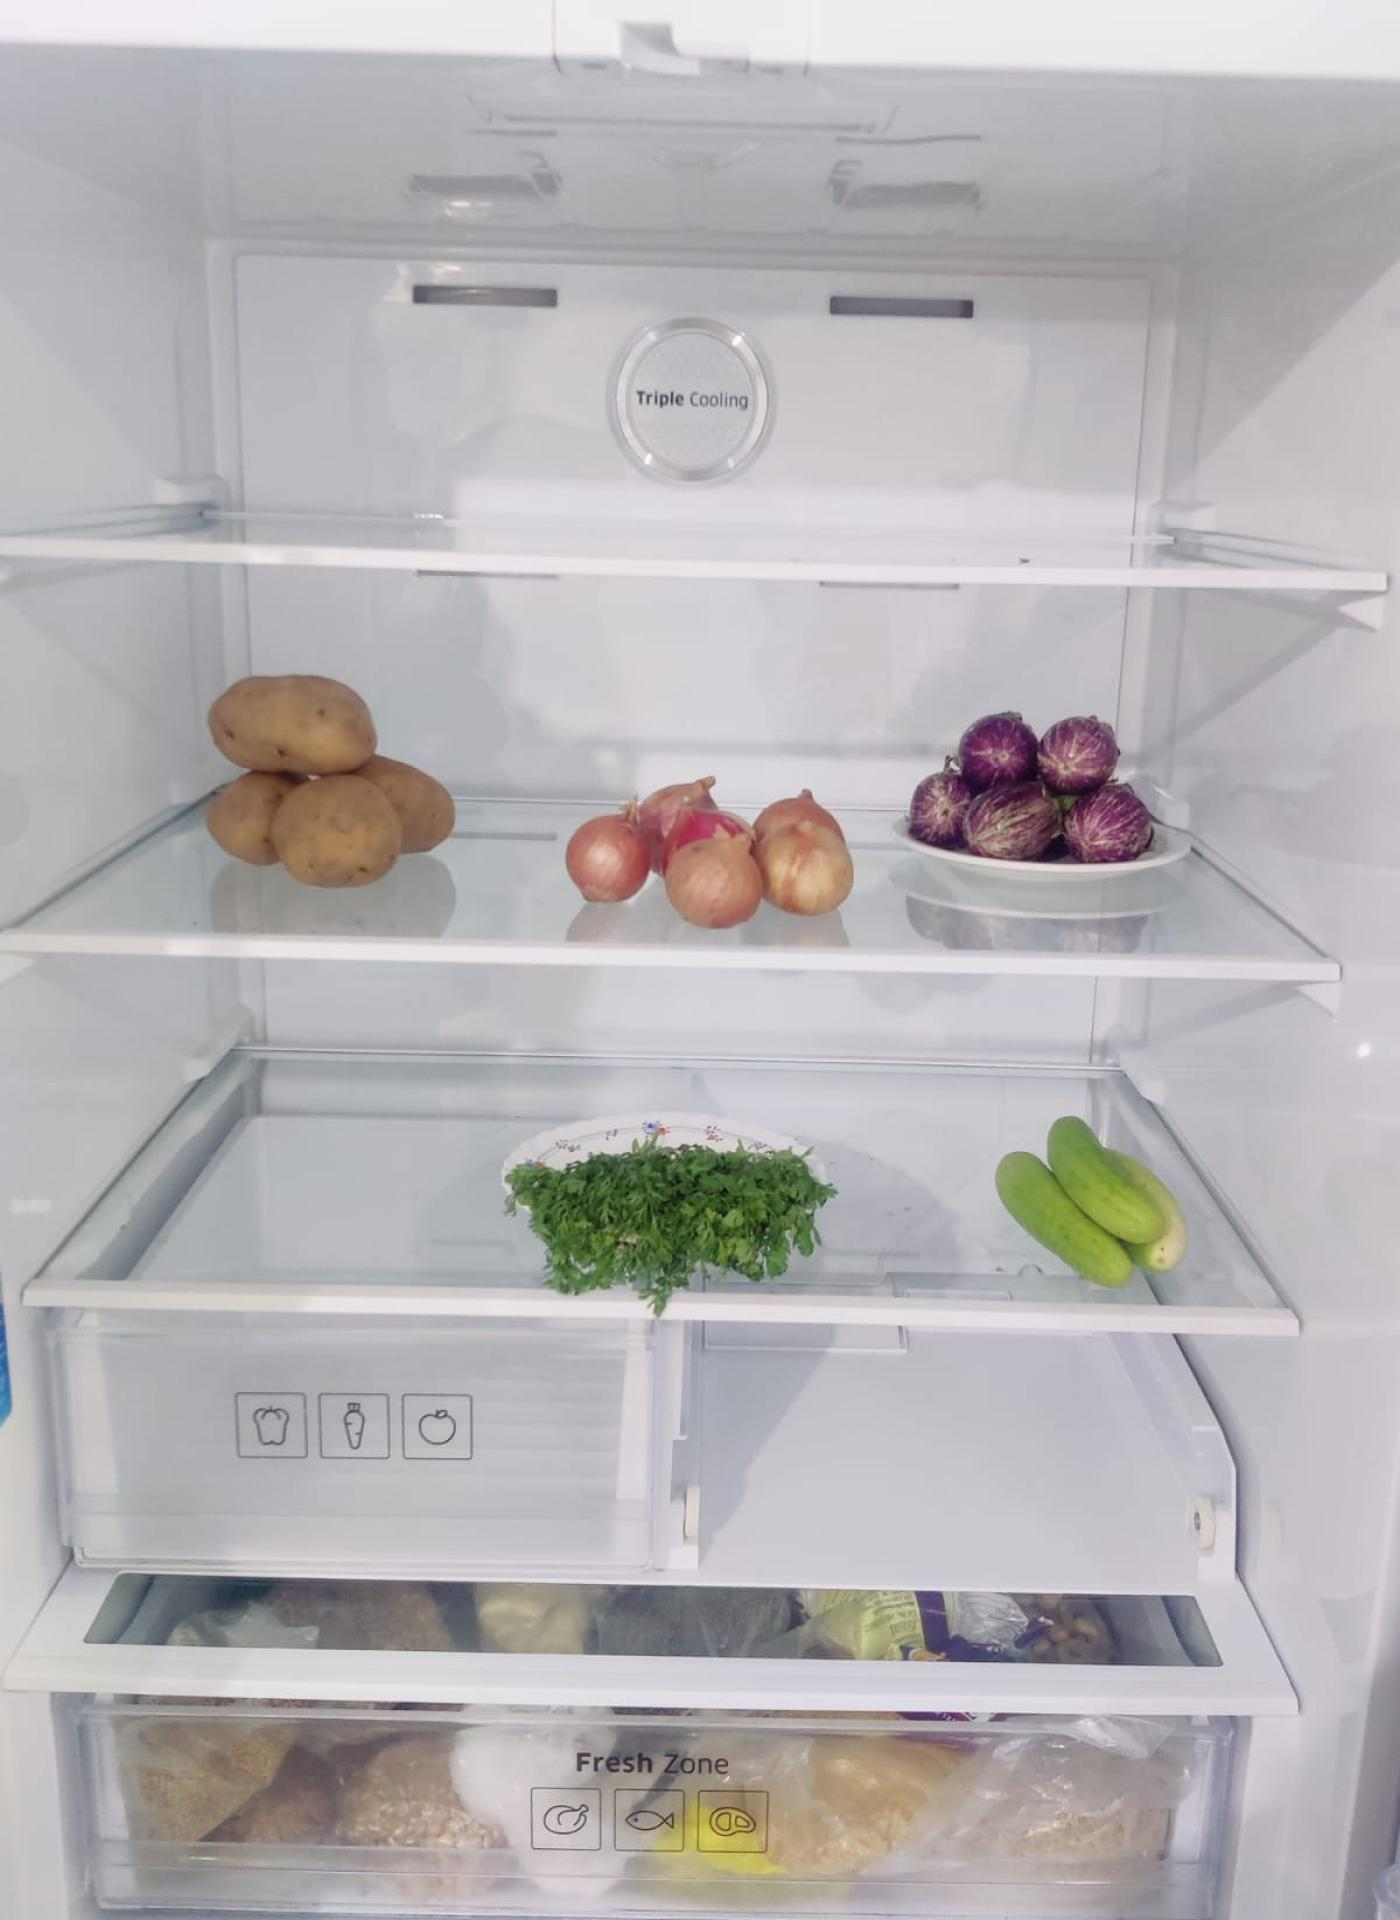brinjal: (908, 705, 1169, 866)
coriander: (511, 1142, 830, 1288)
cucumber: (987, 1109, 1194, 1285)
onion: (568, 781, 856, 927)
potato: (201, 674, 458, 887)
